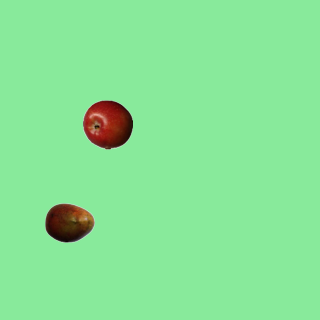Apple Braeburn: (82, 99, 132, 149)
Mango Red: (44, 197, 94, 247)
